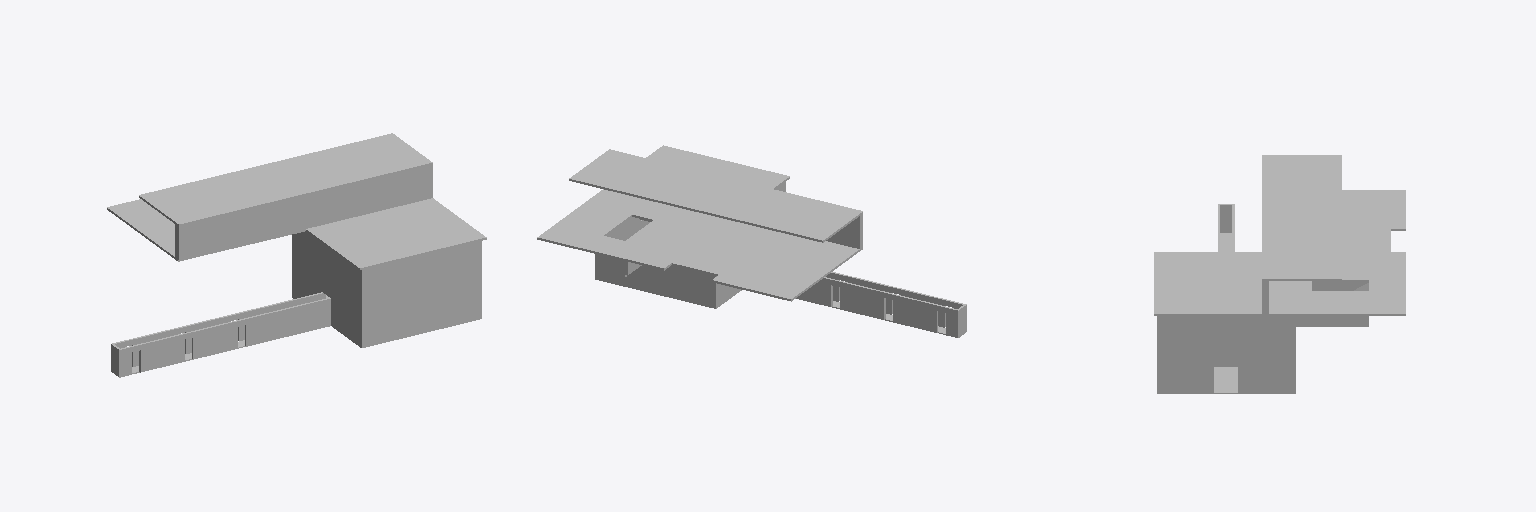
File: titanic v3.obj
3 views of the same model, side by side, from view 1: azimuth 30°, elevation 25°; view 2: azimuth 150°, elevation 25°; view 3: azimuth 270°, elevation 25° (orthographic).
Parts seen in each view (by area): view 1: Body8, Body21, Body31, Body27, Body29, Body25, Body28, Body30, Body26; view 2: Body8, Body28, Body21, Body31, Body27, Body20, Body29; view 3: Body8, Body21, Body27, Body31, Body28, Body20, Body24.
Boxes of the visible parts, box(x1,y1,x2,y2) form: Body8: box(113, 231, 481, 376); Body21: box(306, 198, 486, 270); Body31: box(139, 164, 301, 223); Body27: box(266, 133, 428, 190); Body29: box(175, 196, 305, 259); Body25: box(306, 165, 432, 228); Body28: box(107, 199, 305, 261); Body30: box(175, 191, 305, 226); Body26: box(303, 160, 432, 195); Body8: box(595, 182, 963, 337); Body28: box(672, 220, 862, 301); Body21: box(556, 145, 789, 254); Body31: box(696, 183, 859, 242); Body27: box(569, 152, 731, 211); Body20: box(537, 224, 681, 270); Body29: box(826, 214, 862, 248); Body8: box(1157, 205, 1295, 393); Body21: box(1154, 252, 1368, 315); Body27: box(1269, 217, 1341, 280); Body31: box(1269, 155, 1341, 216); Body28: box(1342, 190, 1405, 251); Body20: box(1369, 252, 1405, 315); Body24: box(1296, 316, 1368, 325).
Bounding box in the file's own units: 31.7 × 10.68 × 20.6.